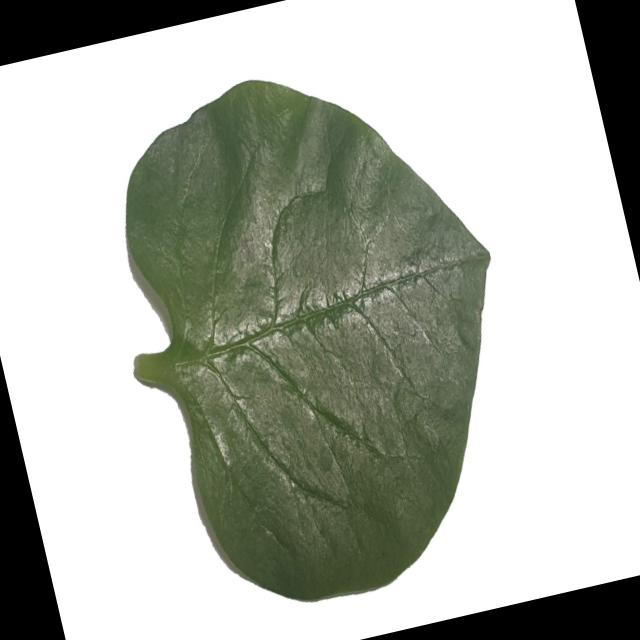Medicinal-Basale: (74, 34, 556, 627)
